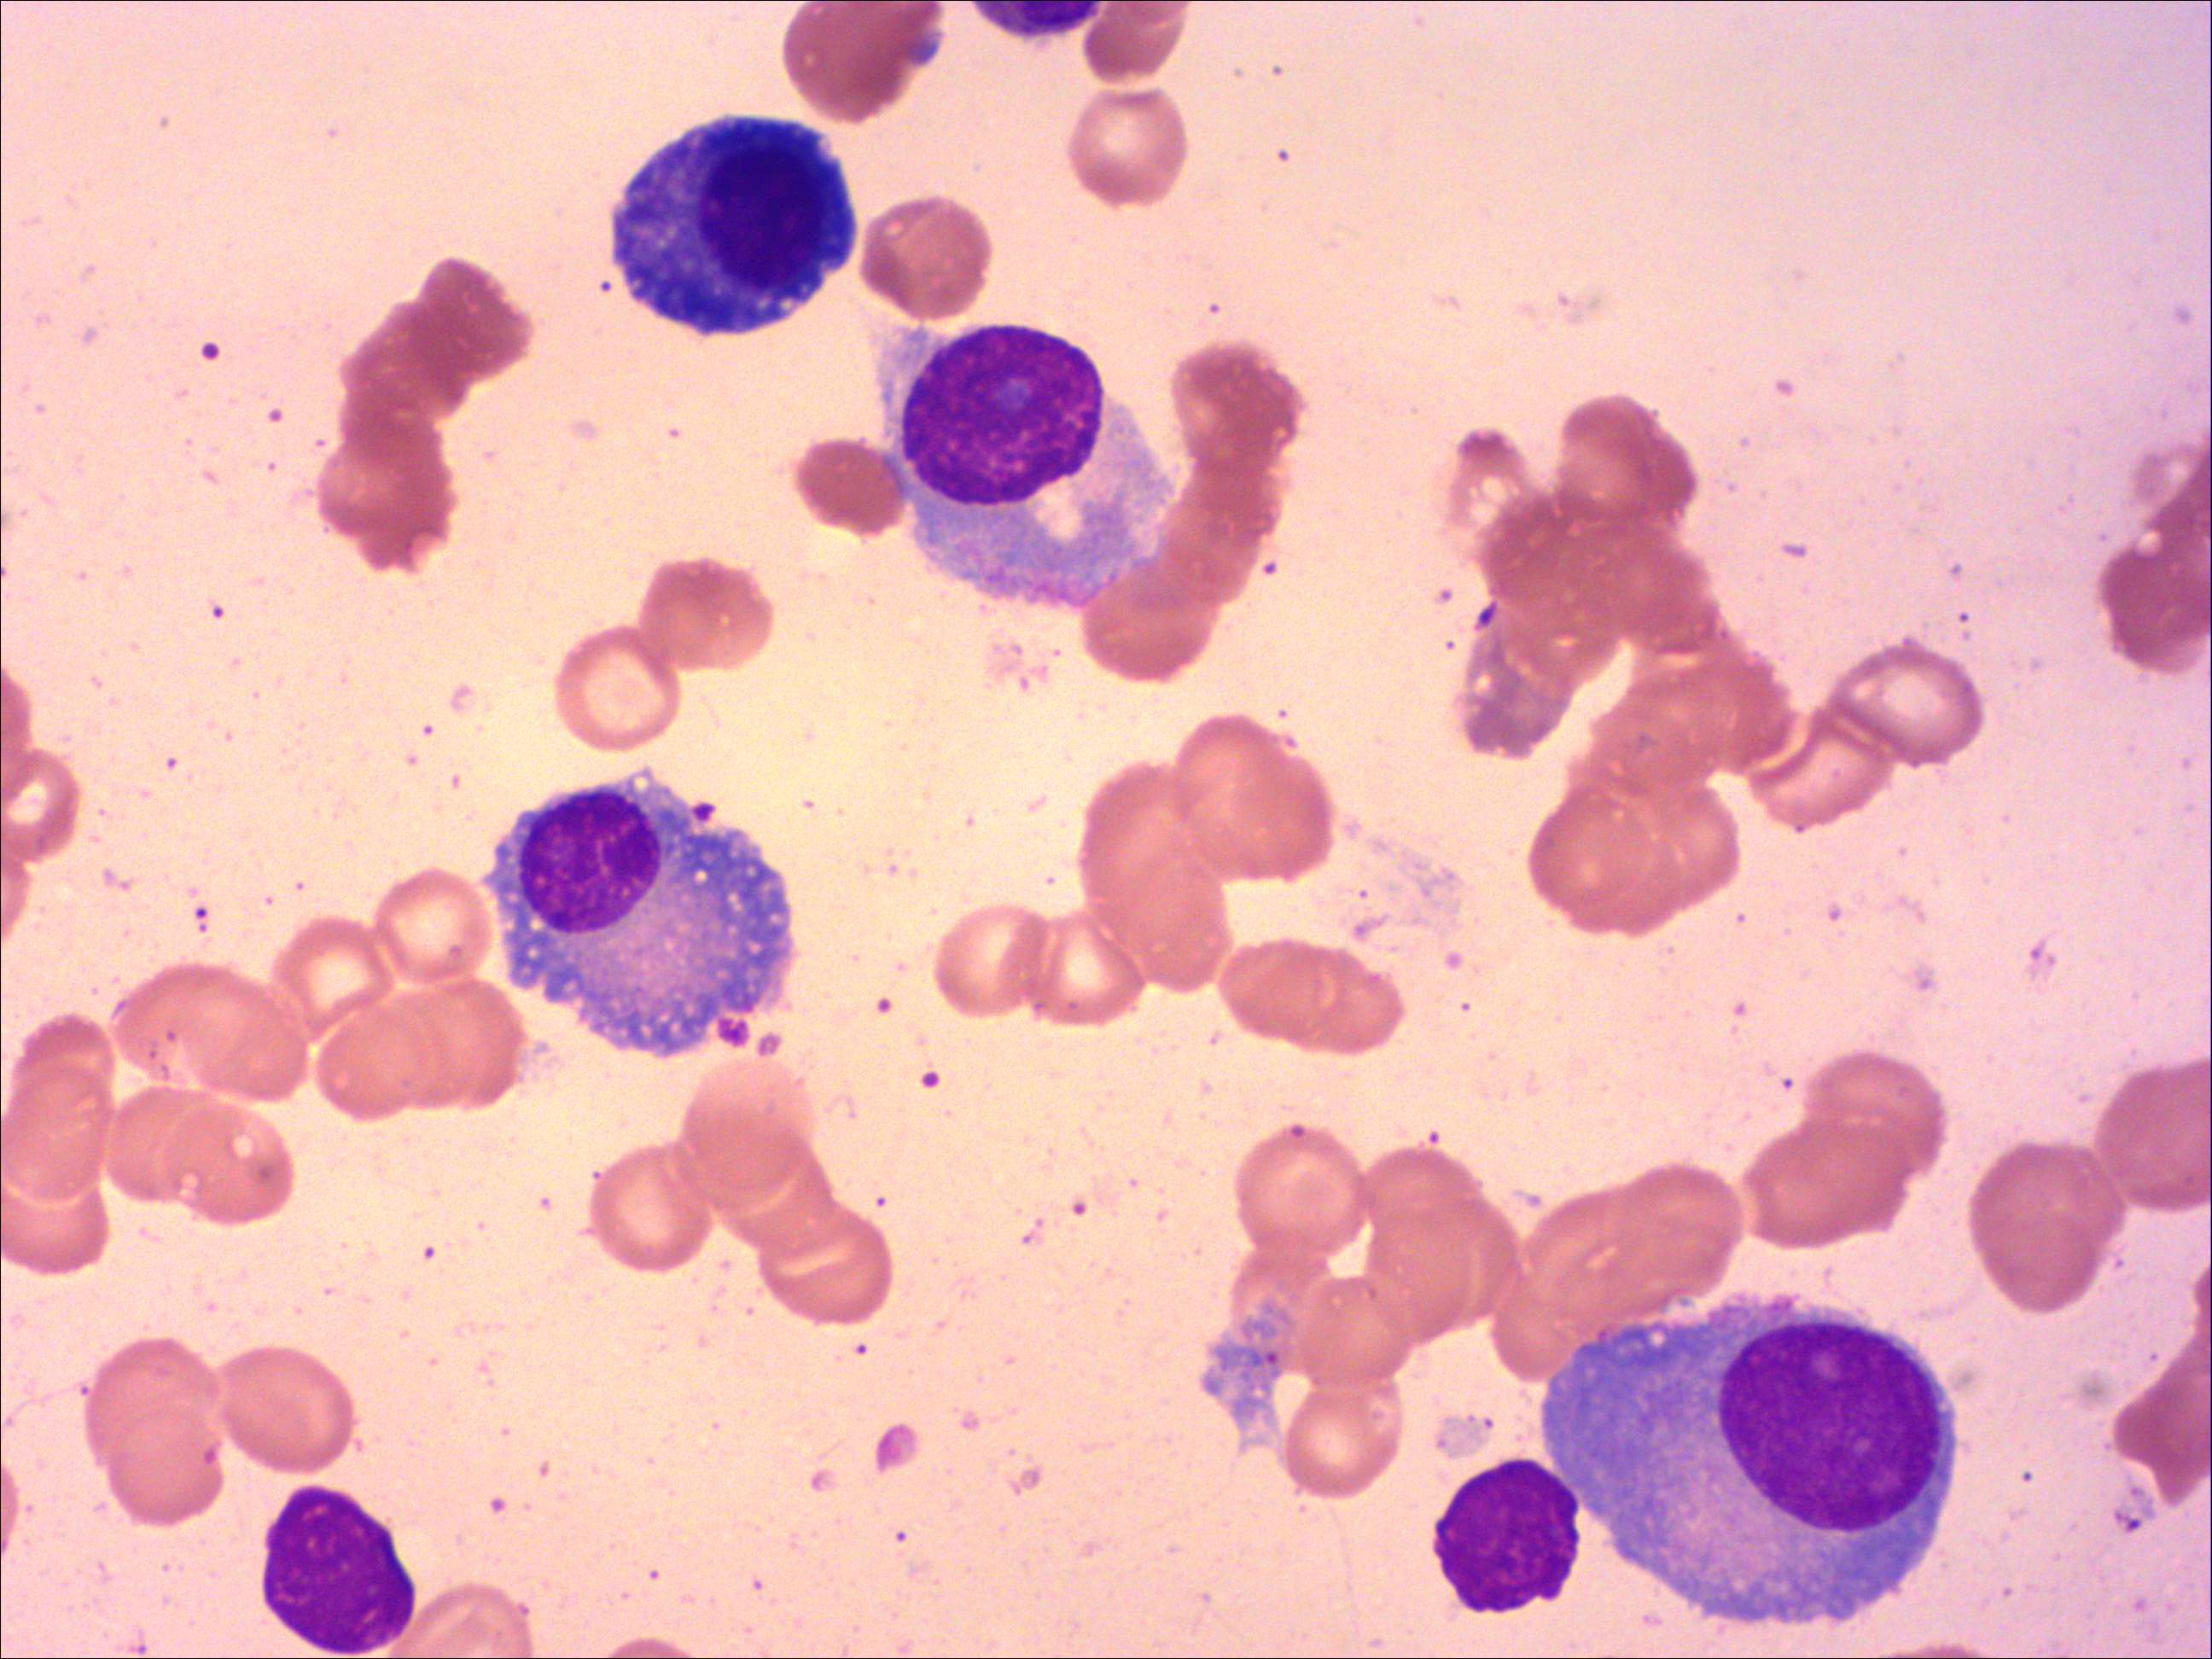51: (1536, 1288, 1958, 1631), (474, 762, 805, 1066), (608, 112, 860, 342), (881, 321, 1118, 521)
x: (258, 1483, 420, 1659), (1428, 1457, 1583, 1617)
